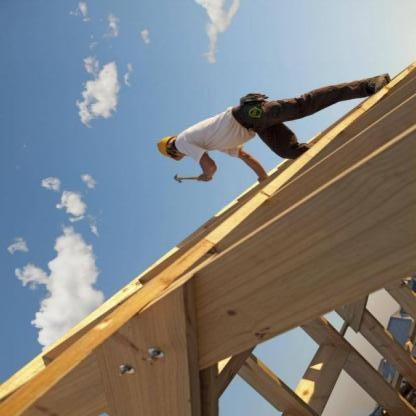yellow: (151, 135, 179, 165)
